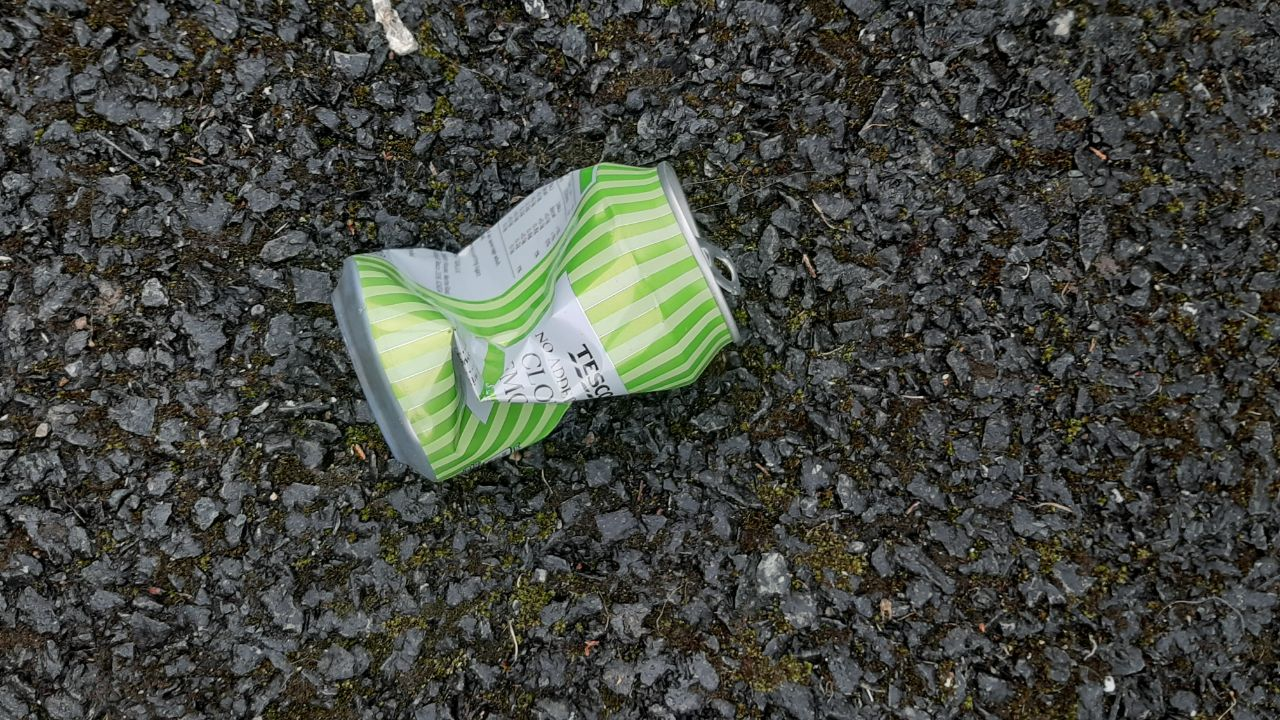Can: (331, 158, 747, 480)
